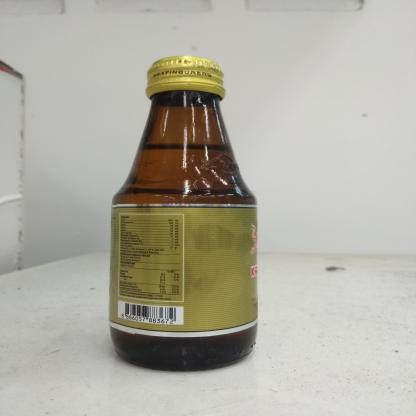bottle: (104, 53, 264, 373)
